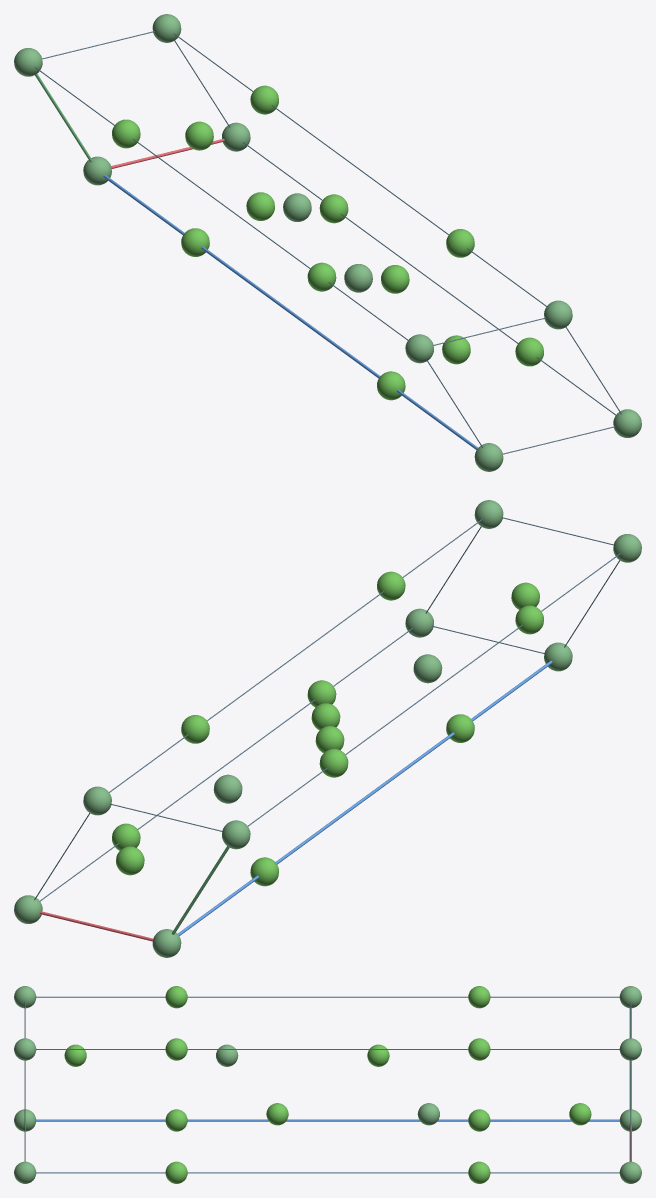
Rendered from chat-nickel-chloride.glb.
3 views of the same model, one above another, from view 1: azimuth 30°, elevation 25°; view 2: azimuth 150°, elevation 25°; view 3: azimuth 270°, elevation 25° (orthographic). The views are drawn at different scales.
Visible parts, largest first — view 1: Cl · Cl · 1 (×12), Ni · Ni · 1 (×10), Ô mạng và các trục a, b, c; view 2: Ni · Ni · 1 (×10), Ô mạng và các trục a, b, c, Cl · Cl · 1 (×7); view 3: Cl · Cl · 1 (×12), Ô mạng và các trục a, b, c, Ni · Ni · 1 (×10).
Boxes of the visible parts, left/top/right/bottom form: Cl · Cl · 1 (×12): left=112, top=85, right=543, bottom=400; Ni · Ni · 1 (×10): left=14, top=14, right=641, bottom=471; Ô mạng và các trục a, b, c: left=35, top=31, right=621, bottom=454; Ni · Ni · 1 (×10): left=14, top=500, right=641, bottom=957; Ô mạng và các trục a, b, c: left=34, top=517, right=620, bottom=941; Cl · Cl · 1 (×7): left=116, top=571, right=543, bottom=886; Cl · Cl · 1 (×12): left=64, top=986, right=591, bottom=1183; Ô mạng và các trục a, b, c: left=24, top=996, right=631, bottom=1173; Ni · Ni · 1 (×10): left=14, top=986, right=641, bottom=1183.
Size of the model in its own units: 5.95 by 3.71 by 17.97.
